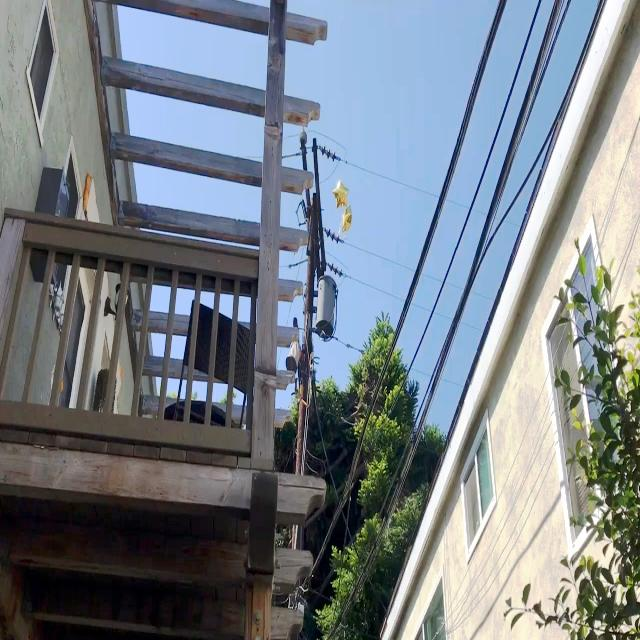obstruction: (338, 205, 352, 236), (332, 180, 348, 207)
poles: (295, 139, 338, 475), (287, 578, 307, 607), (292, 525, 303, 550), (300, 131, 306, 170)
wires: (310, 131, 438, 197), (324, 228, 414, 270), (326, 251, 404, 299), (324, 336, 362, 356), (448, 200, 487, 219), (440, 376, 464, 391), (461, 321, 482, 333), (410, 366, 432, 377), (412, 304, 430, 314), (424, 271, 440, 282), (474, 291, 494, 299), (286, 260, 306, 268), (446, 281, 462, 289), (435, 311, 452, 318), (284, 152, 300, 158), (494, 217, 500, 229), (509, 221, 519, 228)
